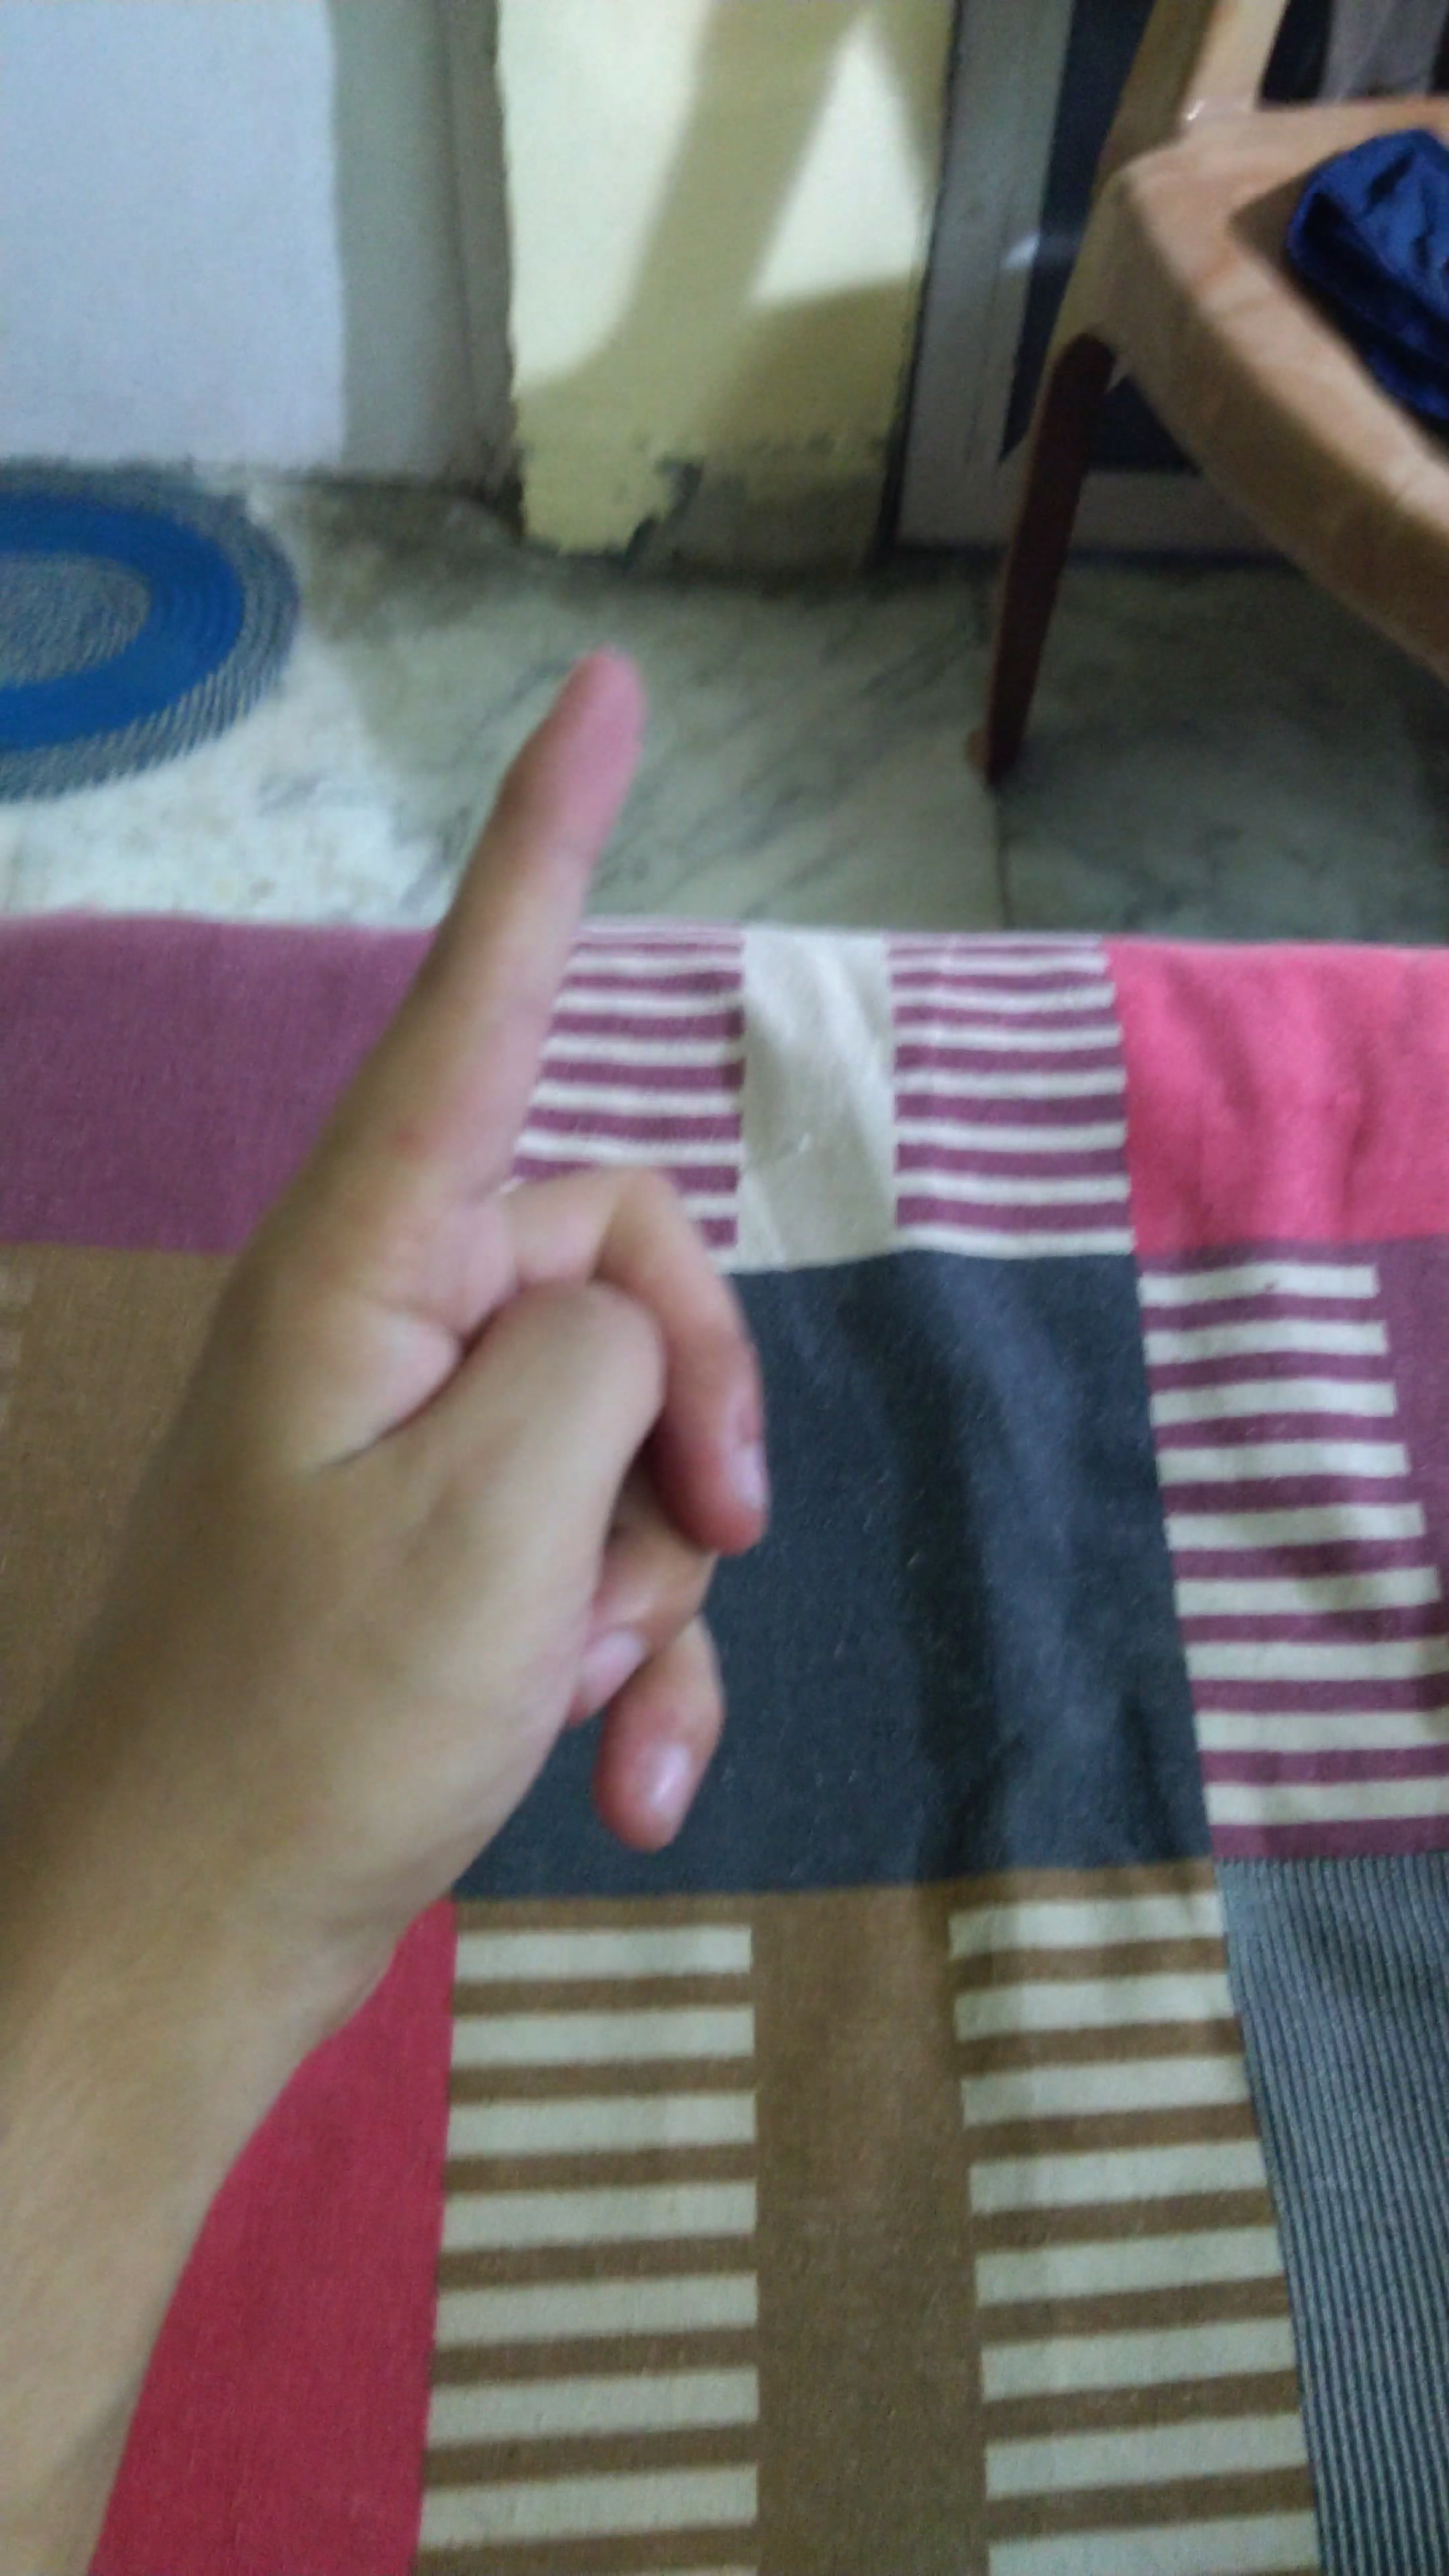hand: (51, 571, 943, 2006)
